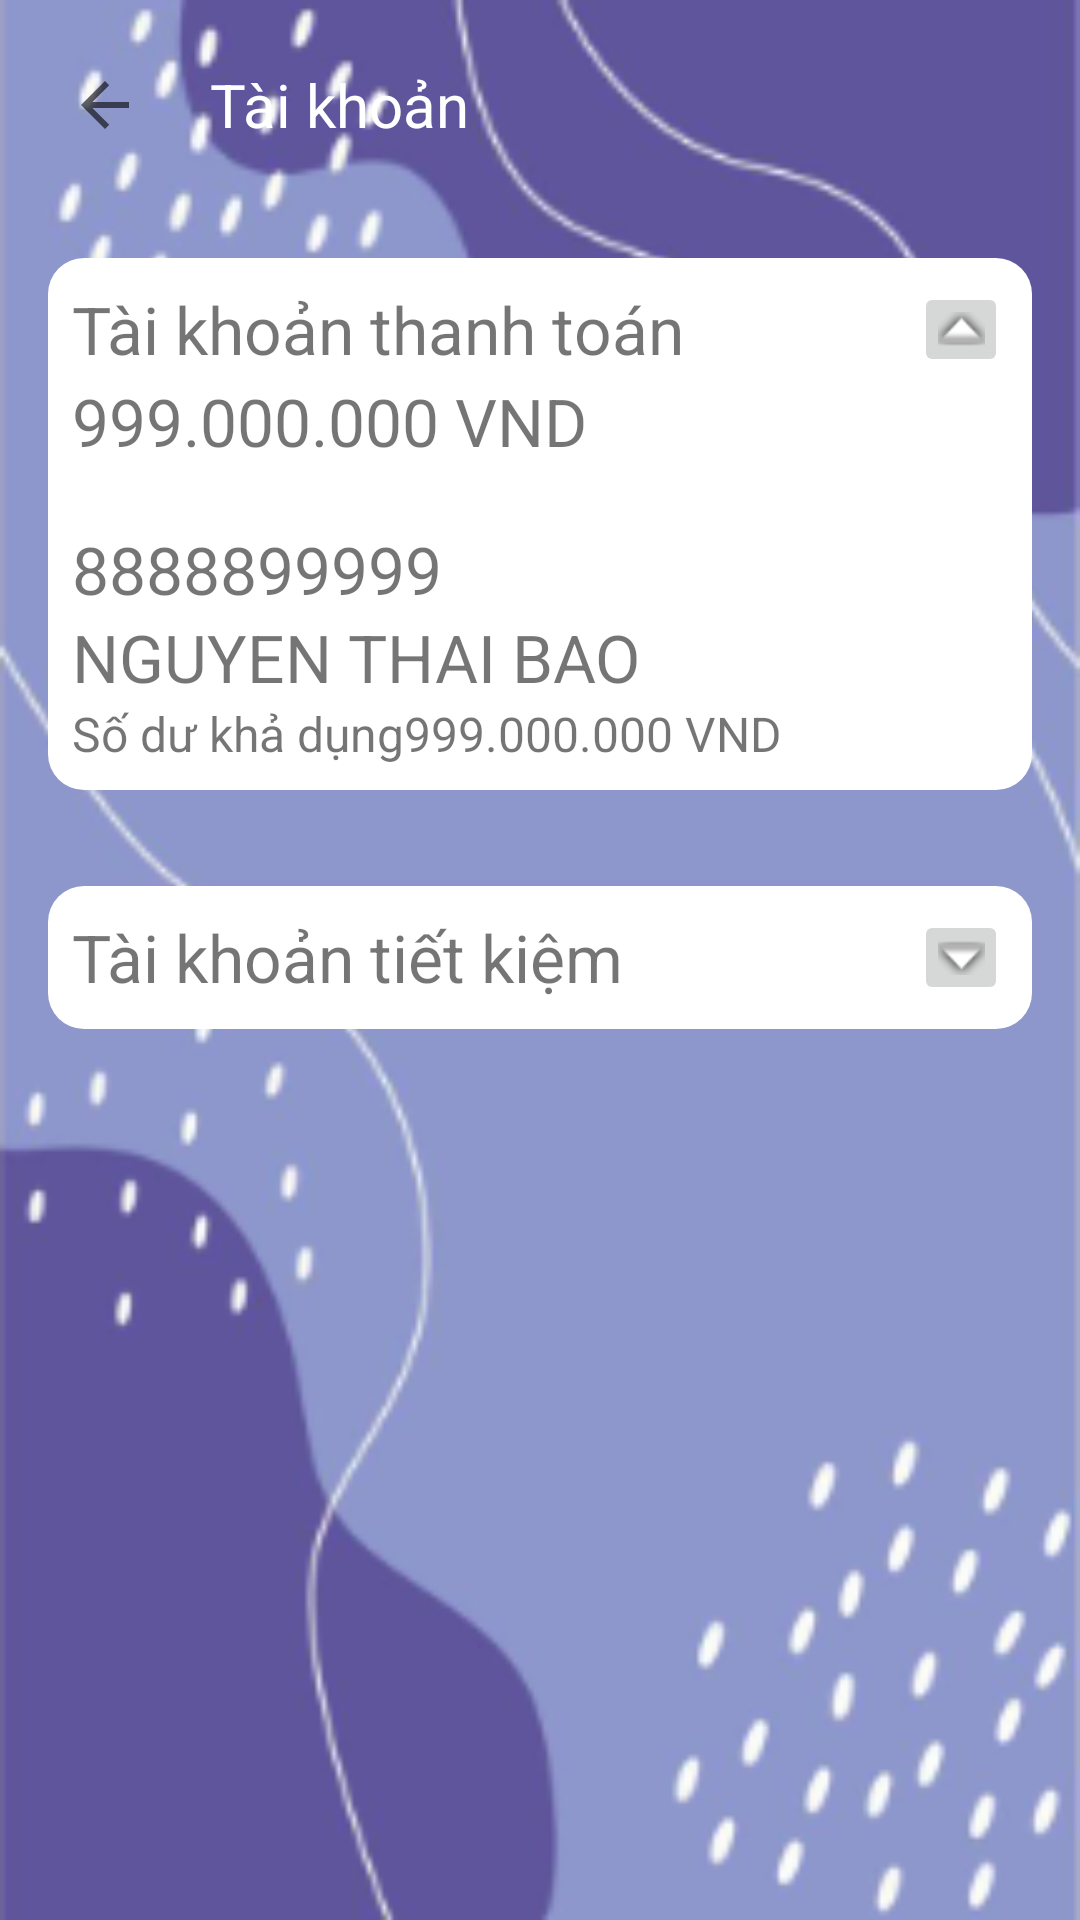

Named icons in this screenshot (1080×1920) and their centers, (x,y):
arrow down float: (961,957)
arrow up float: (961,329)
